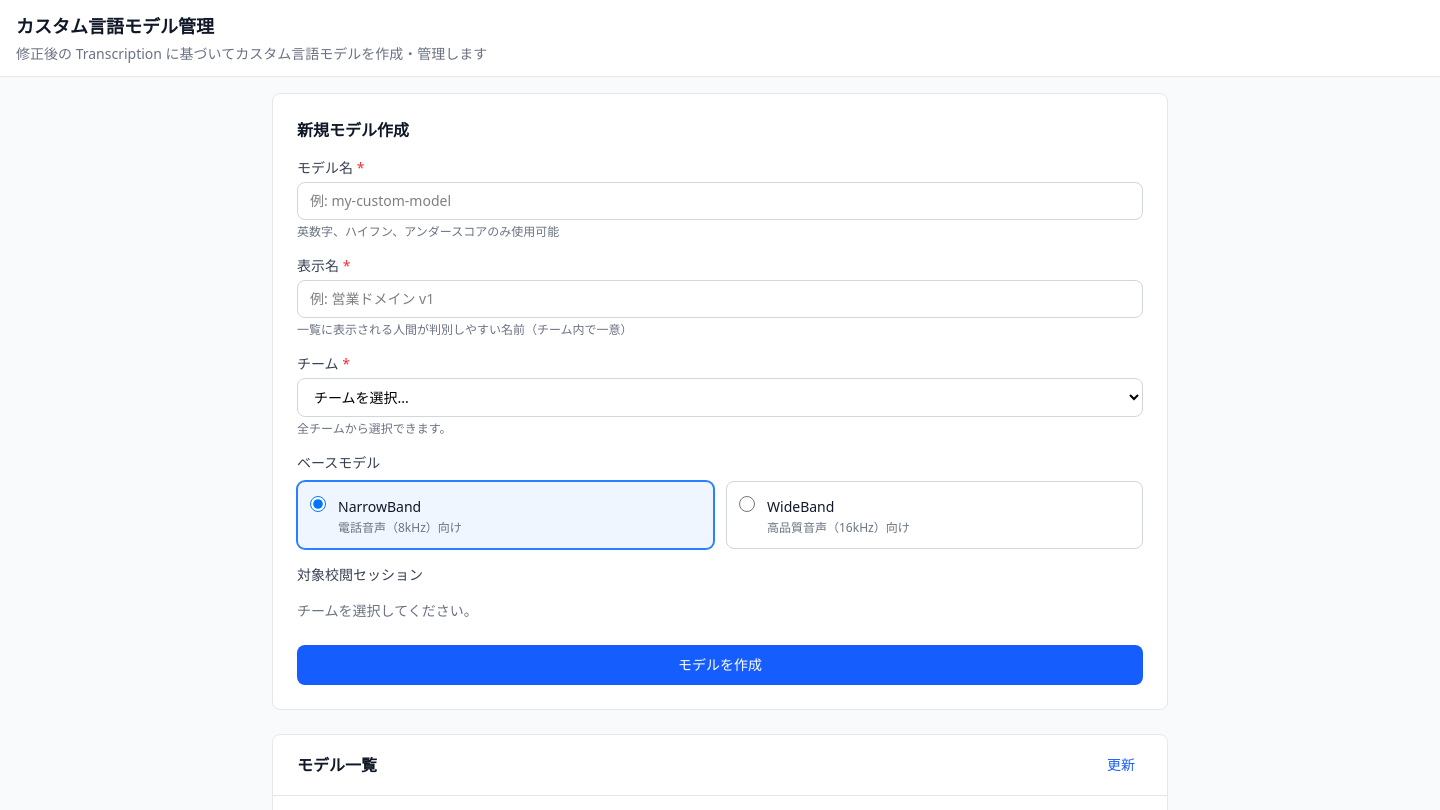
Test: LanguageModelPage › model creation form › shows validation error when no team is selected
The width and height of the screenshot is (1440, 810).
Expected: the dropdown labelled "チーム *" is shown, [297,378,1143,417]
Type "valid-model" into the field labelled "モデル名 *" at point(720, 201), box [297,182,1143,220]
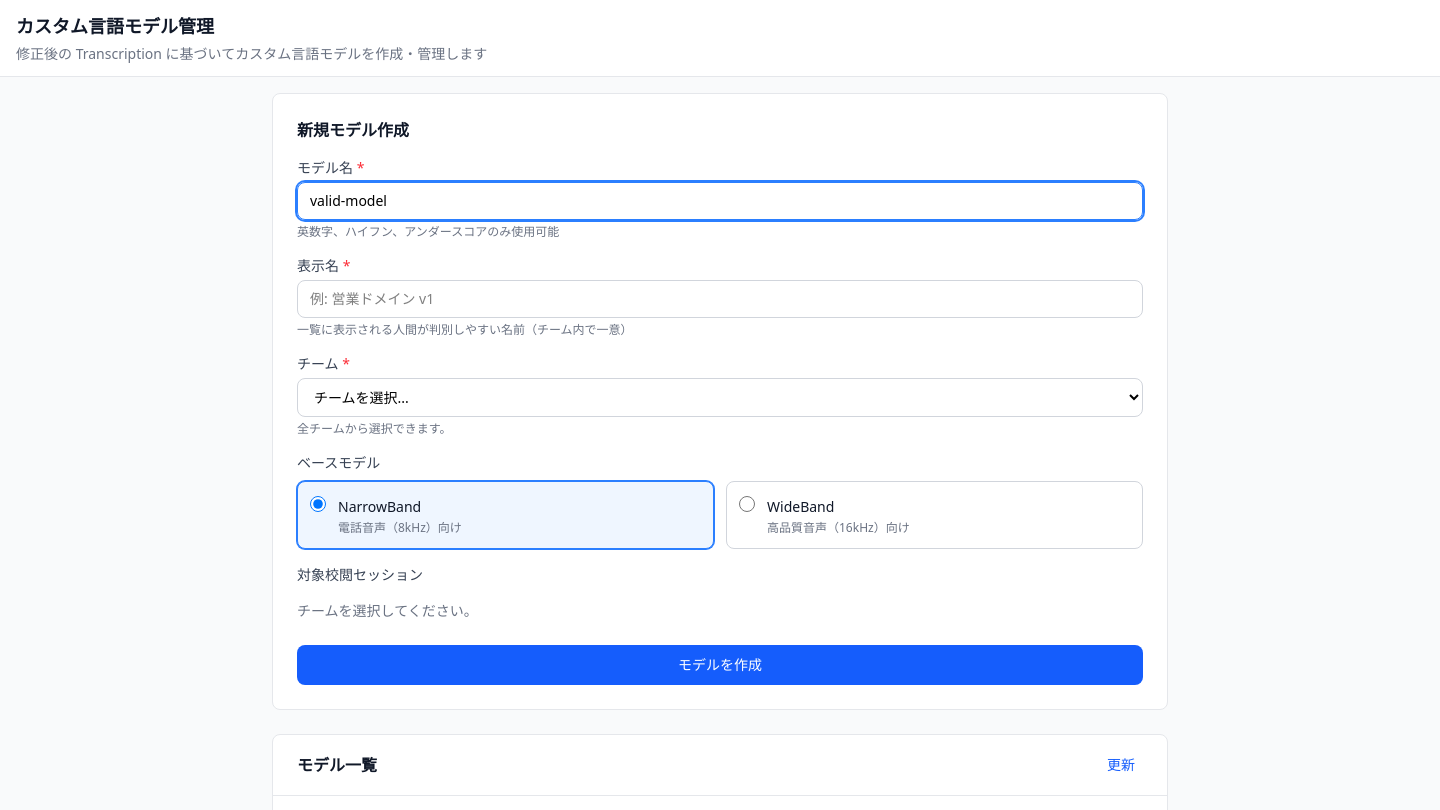
Type "営業ドメイン" into the field labelled "表示名 *" at point(720, 299), box [297,280,1143,318]
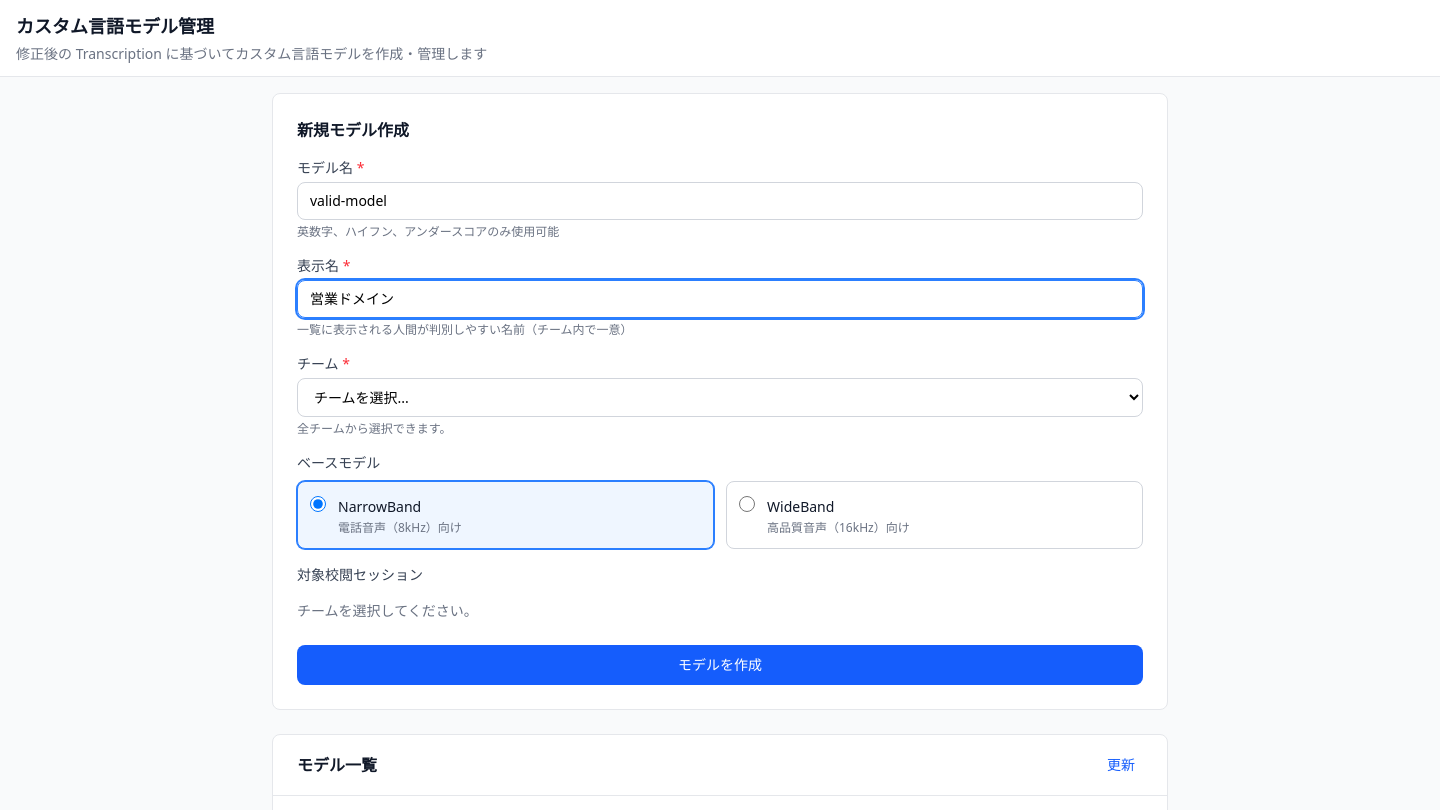
Click the button "モデルを作成" at point(720, 665), box [297,645,1143,685]
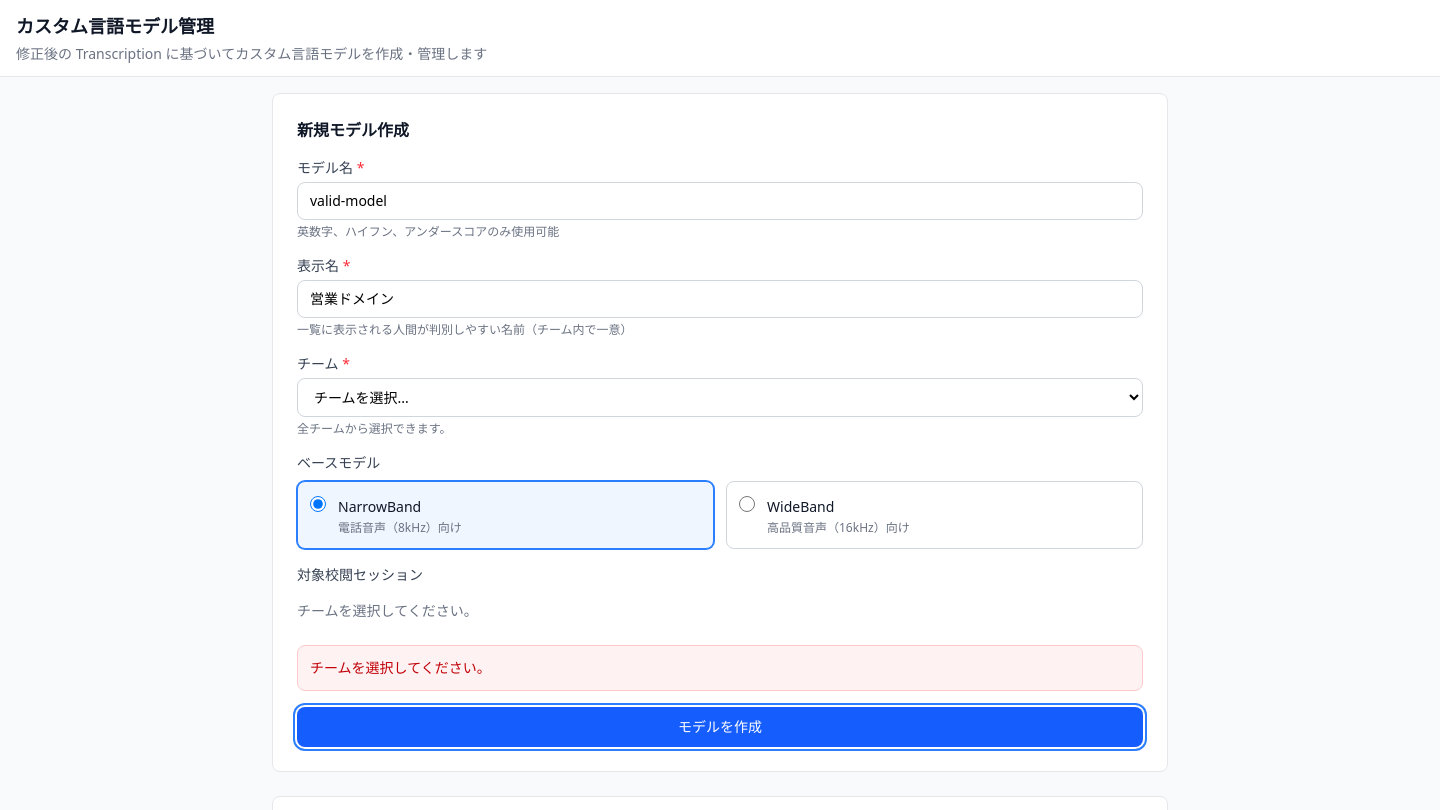
Now the 2nd text "チームを選択してください。" is shown, box [310,658,491,677]
